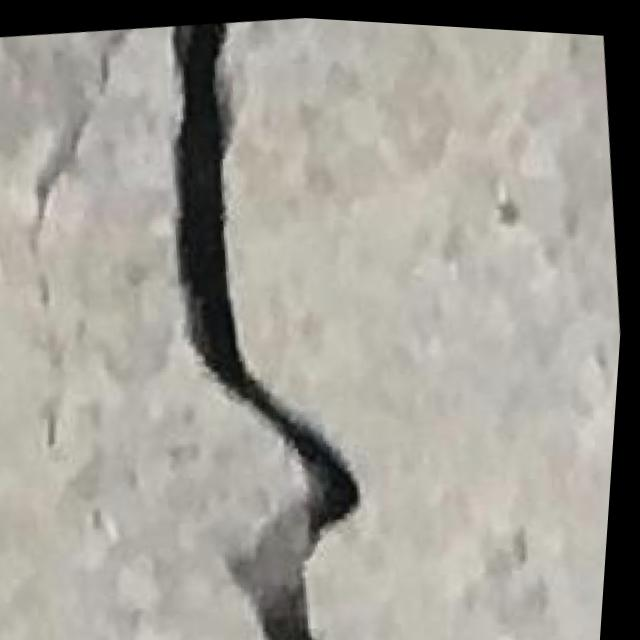Crack: (109, 7, 428, 640), (0, 25, 166, 452)
